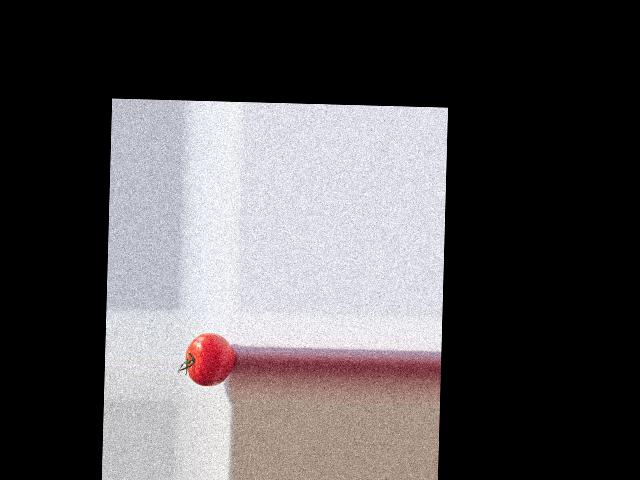tomato: (185, 332, 236, 386)
